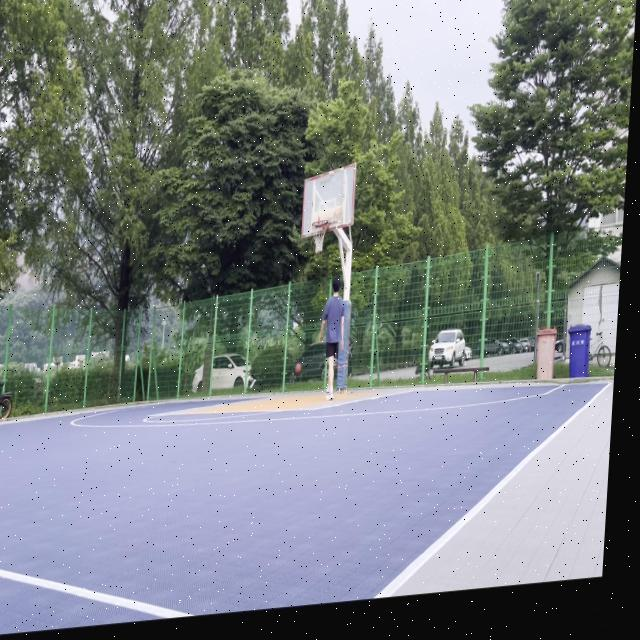basketball: (294, 363, 302, 376)
hoop: (310, 219, 328, 255)
